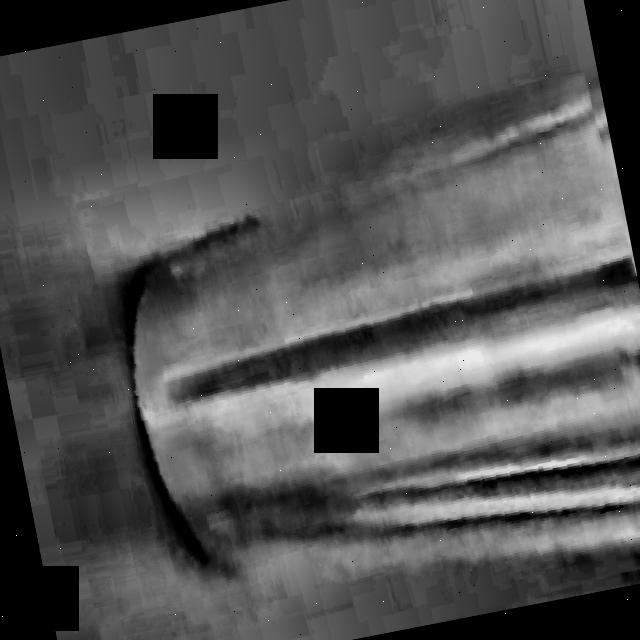bottle: (123, 70, 640, 581)
